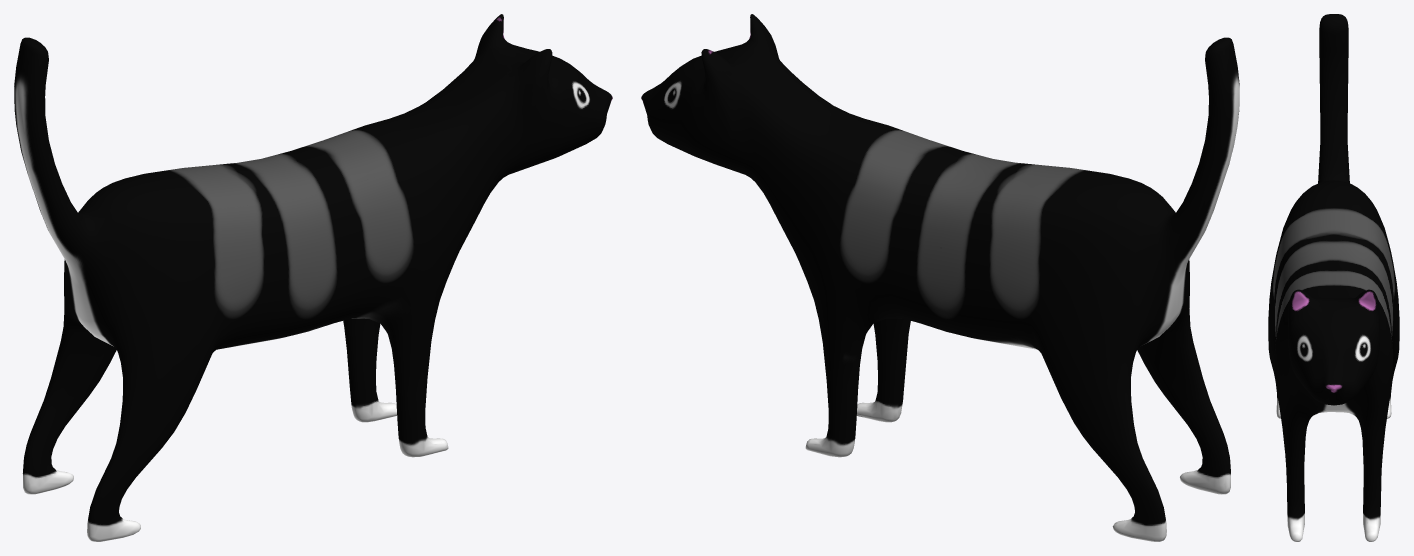
The model's file is Cat.fbx.
3 views of the same model, side by side, from view 1: azimuth 30°, elevation 25°; view 2: azimuth 150°, elevation 25°; view 3: azimuth 270°, elevation 25° (orthographic). The views are drawn at different scales.
Parts seen in each view (by area): view 1: Cat; view 2: Cat; view 3: Cat.
Boxes of the visible parts, x1,y1,x2,y2 form: Cat: (14,14,612,541); Cat: (641,14,1239,541); Cat: (1268,14,1399,541).
Bounding box in the file's own units: 563 × 441 × 139.
1 material, 1 textured.
